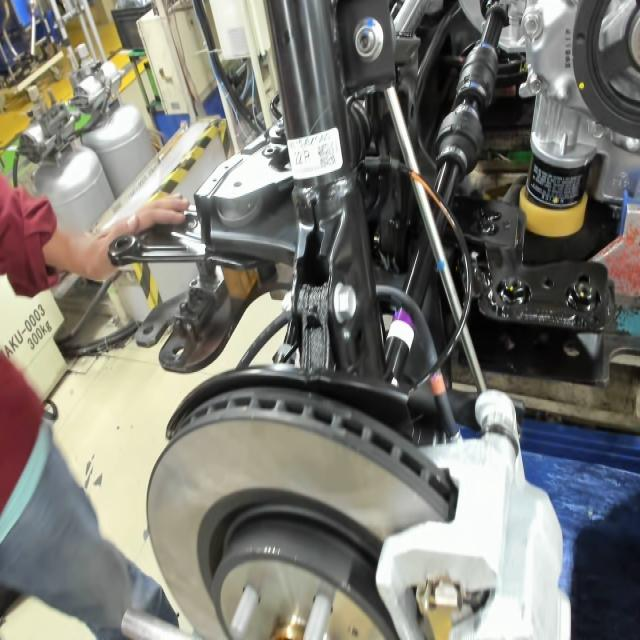Absorber RH-22: (290, 137, 338, 183)
Disc-HT: (194, 476, 392, 640)
Drive Shaft-UG: (385, 306, 419, 351)
